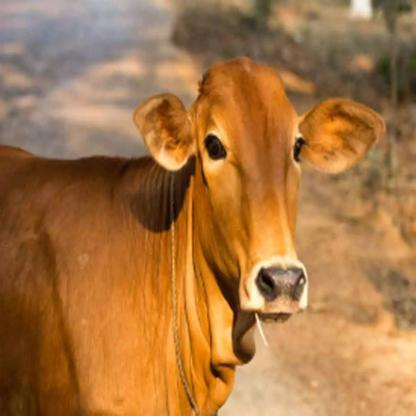cow: (0, 63, 379, 416)
